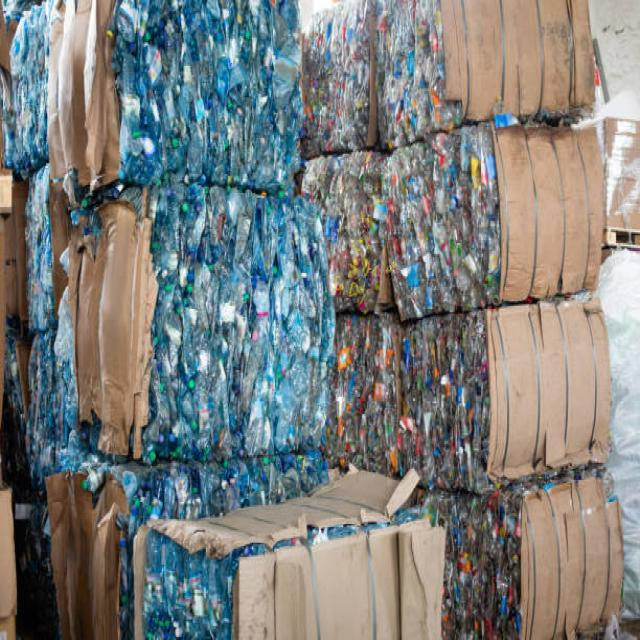plastic: (124, 11, 508, 499)
